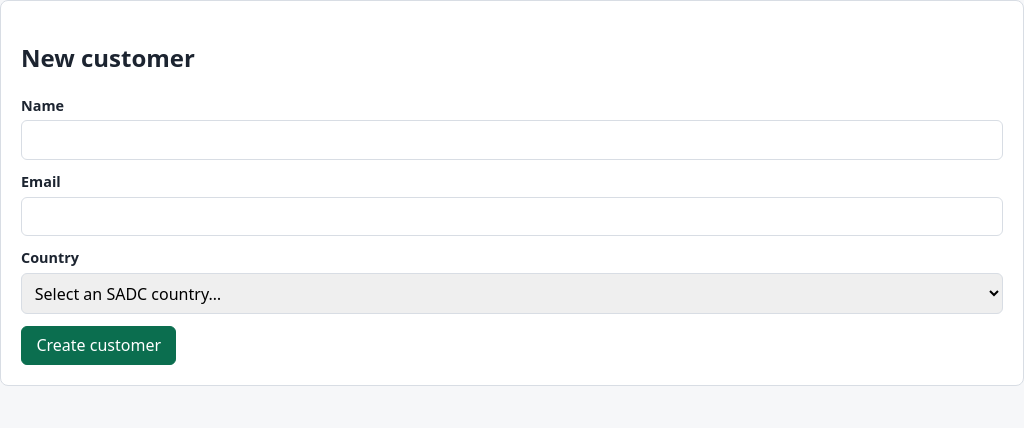
it: CreateCustomerForm › shows server-side field errors next to the field
Type "Dup" into the field labelled "Name". click: (512, 140)
box: left=21, top=120, right=1003, bottom=160
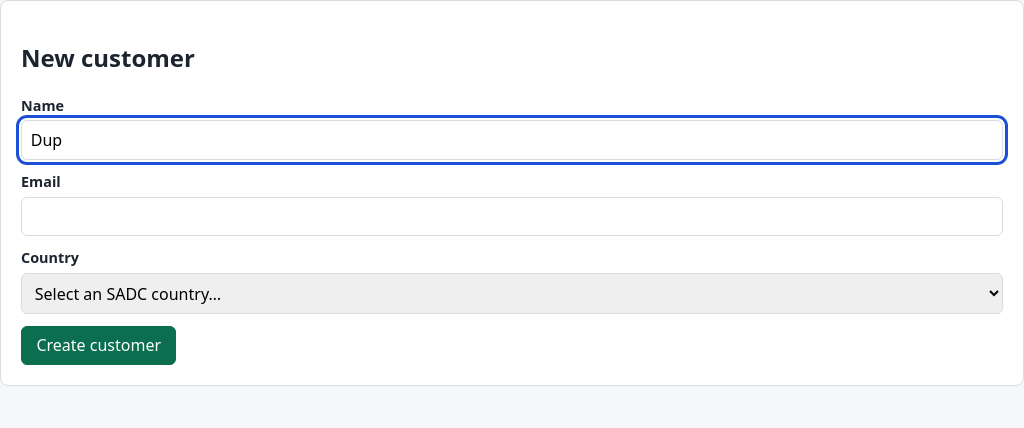
Type "dup@example.za" into the field labelled "Email". click: (512, 217)
box: left=21, top=197, right=1003, bottom=236
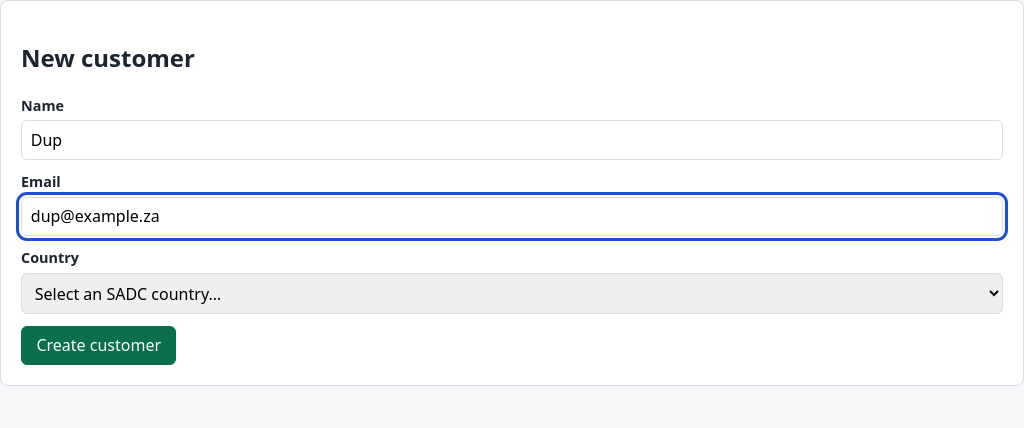
Select "South Africa (ZA)" in the dropdown labelled "Country". click: (512, 294)
box: left=21, top=273, right=1003, bottom=314
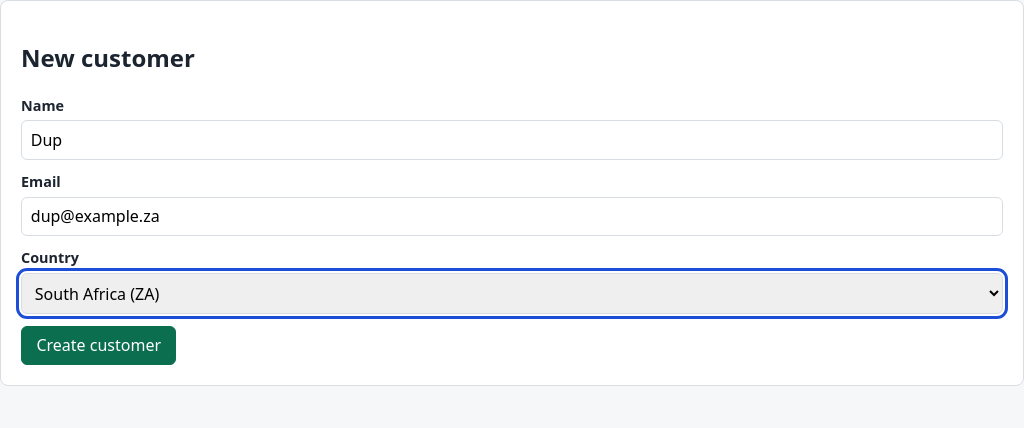
Click the button "Create customer". click: (99, 346)
box: left=21, top=326, right=176, bottom=365
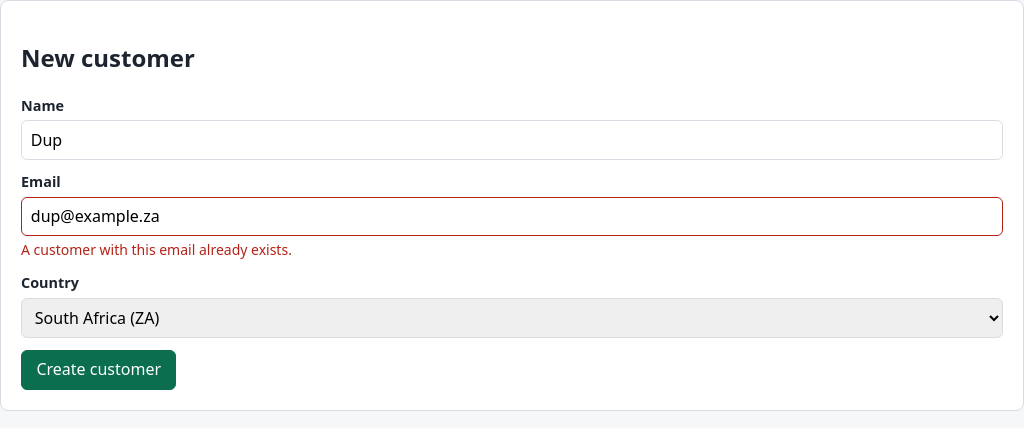
Result: the text "A customer with this email already exists." is shown at left=21, top=240, right=292, bottom=260
